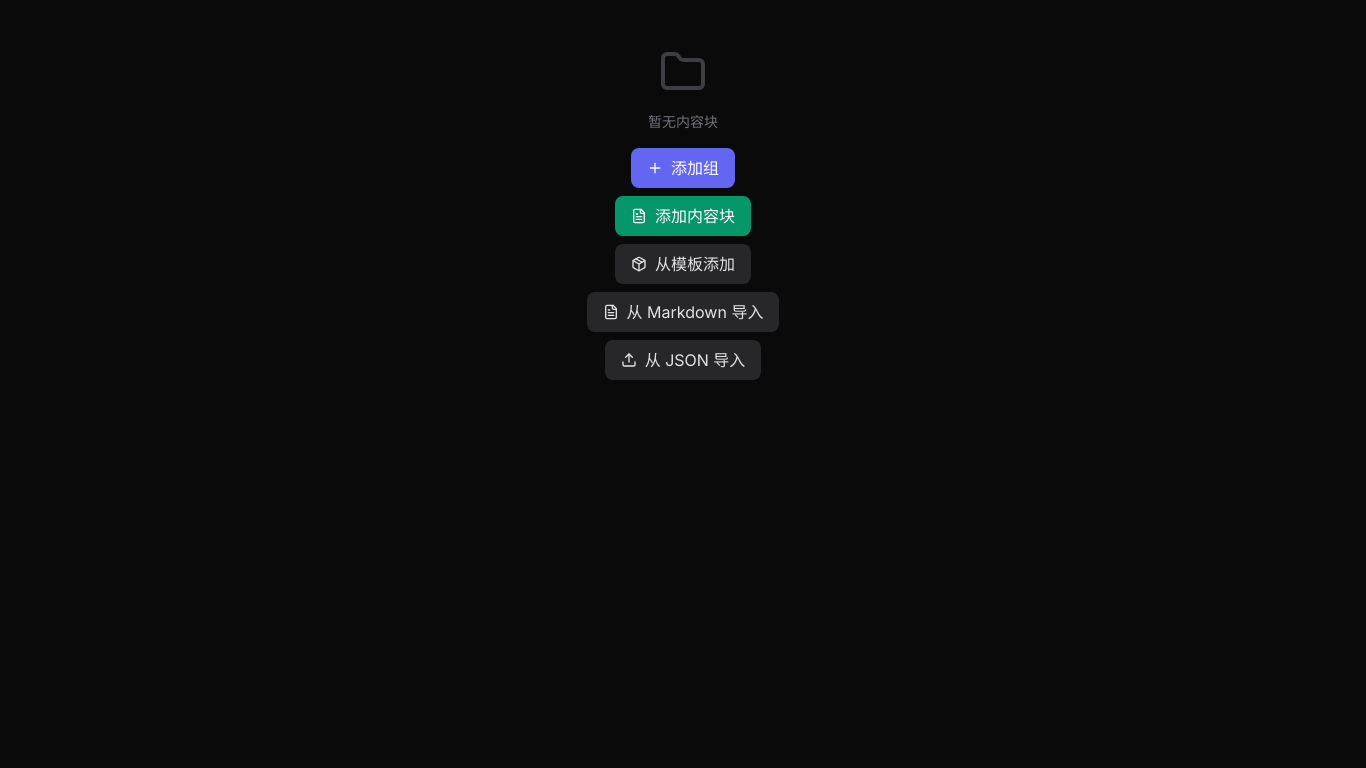
it: BlockTree › shows the project-level JSON import entry and opens the modal
Click the button "从 JSON 导入": (683, 360) top-left (605, 340), bottom-right (761, 380)
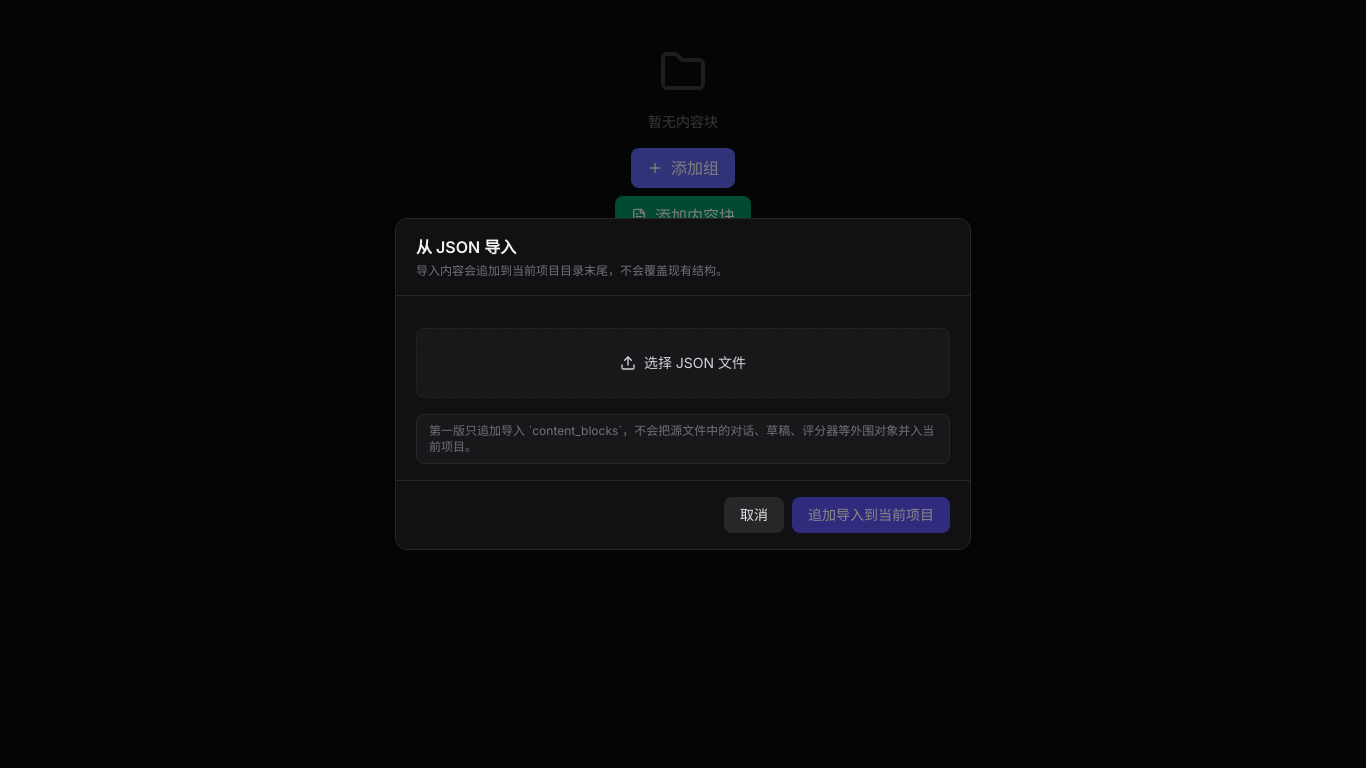
Expected: the heading "从 JSON 导入" is shown, top-left (416, 237), bottom-right (516, 257)
Expected: the button "追加导入到当前项目" is shown, top-left (792, 497), bottom-right (950, 533)
